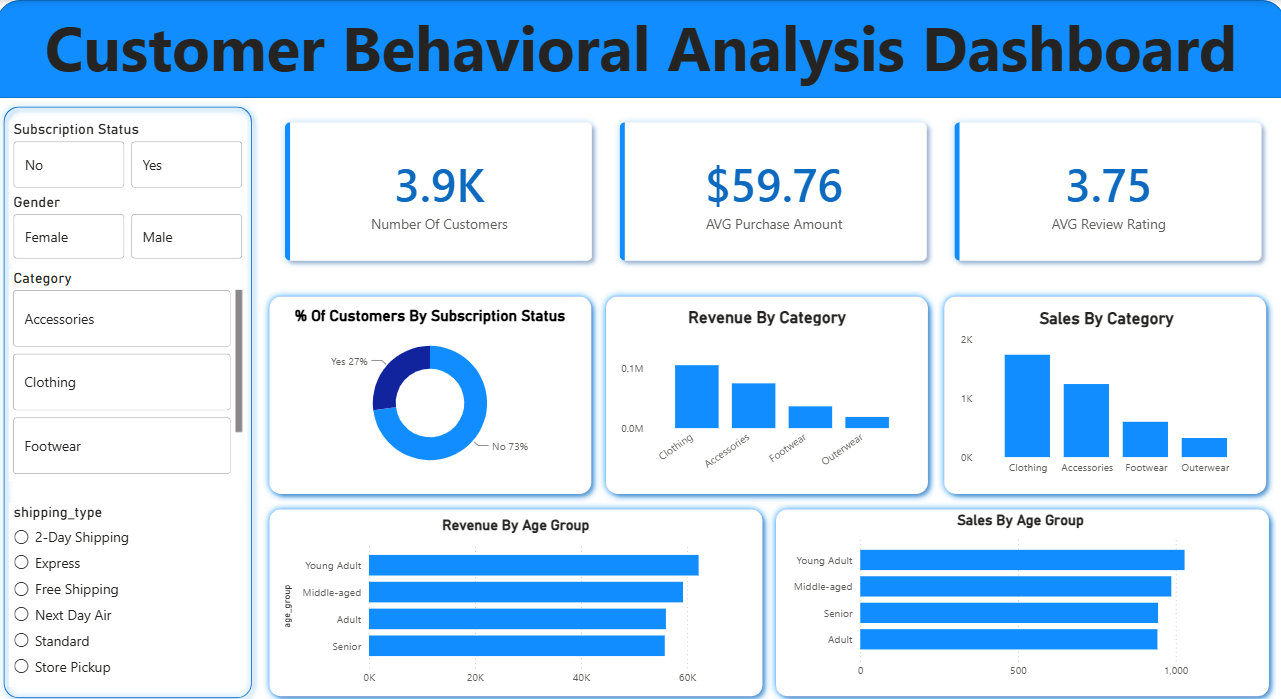

Layout of this report page (visuals, bound fields, positions):
{"tool":"powerbi","page":{"name":"Page 1","canvas":[1500,820],"ordinal":0},"visuals":[{"type":"cardVisual","fields":{"Data":["public customer.number ofo customers","public customer.average purchase amount","public customer.average review rating"]},"box":[306,114.1,1193.4,219.8],"z":0},{"type":"shape","box":[0,0,1499.4,114.1],"z":1000},{"type":"textbox","box":[0,0,1499.4,114.1],"z":2000},{"type":"shape","box":[308.8,335.2,392.2,247.6],"z":3000},{"type":"donutChart","title":"% Of Customers By Subscription Status","fields":{"Category":["public customer.subscription_status"],"Y":["CountNonNull(public customer.customer_id)"]},"box":[328.3,356.1,353.3,203.1],"z":4000},{"type":"shape","box":[701,336.6,392.2,247.6],"z":5000},{"type":"shape","box":[1093.2,336.6,392.2,247.6],"z":6000},{"type":"clusteredColumnChart","title":"Revenue By Category","fields":{"Y":["Sum(public customer.purchase_amount)"],"Category":["public customer.category"]},"box":[720.5,356.1,350.5,203.1],"z":7000},{"type":"clusteredColumnChart","title":"Sales By Category","fields":{"Y":["CountNonNull(public customer.purchase_amount)"],"Category":["public customer.category"]},"box":[1115.5,358.2,349.5,202.8],"z":8000},{"type":"shape","box":[0,114.4,306.4,705.5],"z":9000},{"type":"advancedSlicerVisual","title":"Subscription Status","fields":{"Values":["public customer.subscription_status"]},"box":[15.1,140.2,276.2,84.1],"z":10000},{"type":"advancedSlicerVisual","title":"Gender","fields":{"Values":["public customer.gender"]},"box":[15.1,224.4,276.2,82],"z":11000},{"type":"advancedSlicerVisual","title":"Category","fields":{"Values":["public customer.category"]},"box":[15.1,312.9,276.2,246],"z":12000},{"type":"listSlicer","fields":{"Values":["public customer.shipping_type"]},"box":[15.1,584.7,274,213.6],"z":13000},{"type":"shape","box":[897.6,582.6,591.2,235.2],"z":14000},{"type":"clusteredBarChart","title":"Sales By Age Group","fields":{"Category":["public customer.age_group"],"Y":["CountNonNull(public customer.customer_id)"]},"box":[917,595.5,548,202.8],"z":15000},{"type":"shape","box":[308.5,582.6,591.2,235.2],"z":16000},{"type":"clusteredBarChart","title":"Revenue By Age Group","fields":{"Y":["Sum(public customer.purchase_amount)"],"Category":["public customer.age_group"]},"box":[328,599.8,552.4,205],"z":17000}]}

Visuals, with their boxes in screenshot pixels (x1, y1, x2, y2), scaled from the page's 1500x820 canvas onto the 1281x699 screenshot:
cardVisual - public customer.number ofo customers x public customer.average purchase amount: (261,97,1280,285)
shape: (0,0,1280,97)
textbox: (0,0,1280,97)
shape: (264,286,599,497)
"% Of Customers By Subscription Status" donutChart: (280,304,582,477)
shape: (599,287,934,498)
shape: (934,287,1269,498)
"Revenue By Category" clusteredColumnChart: (615,304,915,477)
"Sales By Category" clusteredColumnChart: (953,305,1251,478)
shape: (0,98,262,698)
"Subscription Status" advancedSlicerVisual: (13,120,249,191)
"Gender" advancedSlicerVisual: (13,191,249,261)
"Category" advancedSlicerVisual: (13,267,249,476)
listSlicer - public customer.shipping_type: (13,498,247,681)
shape: (767,497,1271,697)
"Sales By Age Group" clusteredBarChart: (783,508,1251,681)
shape: (263,497,768,697)
"Revenue By Age Group" clusteredBarChart: (280,511,752,686)
